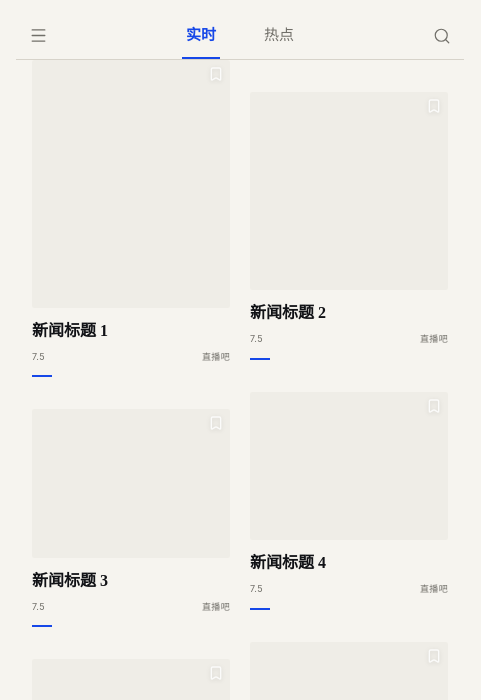
App › 搜索栏可以打开和关闭
Expected: the heading "新闻标题 1" is shown, [32,322,108,338]
Click the button named "搜索" at (442, 36), box [428,22,456,50]
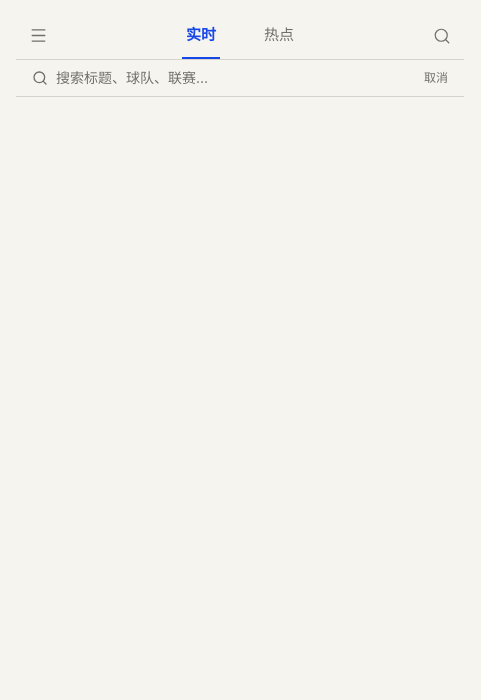
Expected: the field with placeholder "搜索标题、球队、联赛…" is shown, [56,68,416,88]
Click the button "取消" at (436, 78), box [424,70,448,86]
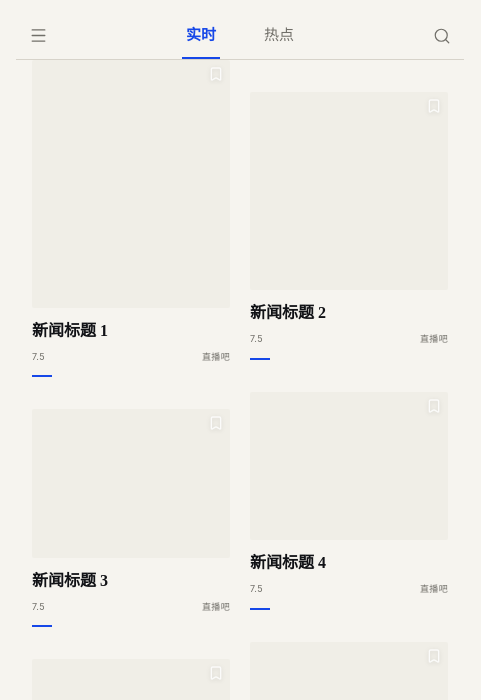
Expected: the field with placeholder "搜索标题、球队、联赛…" is gone
